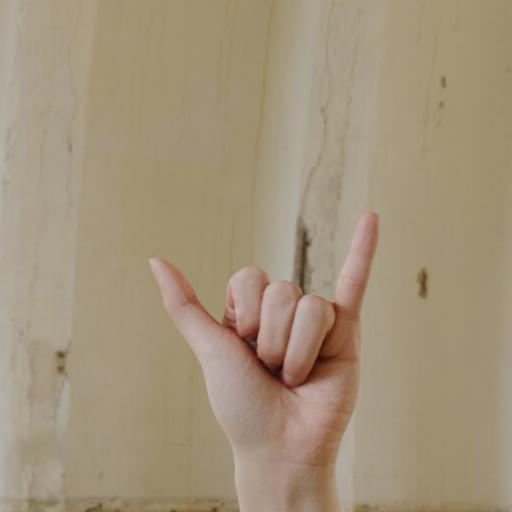Y: (137, 200, 404, 476)
